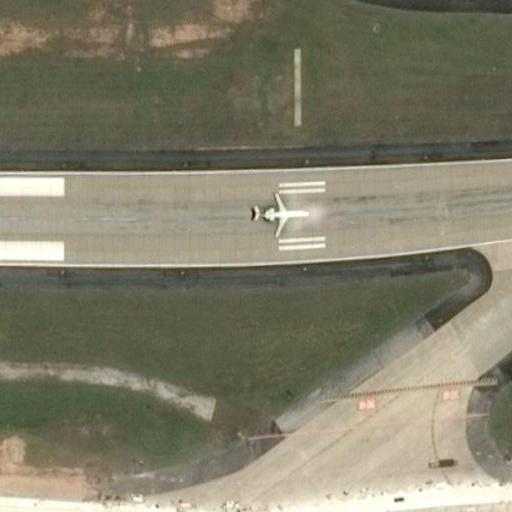Aircraft: (253, 190, 311, 237)
